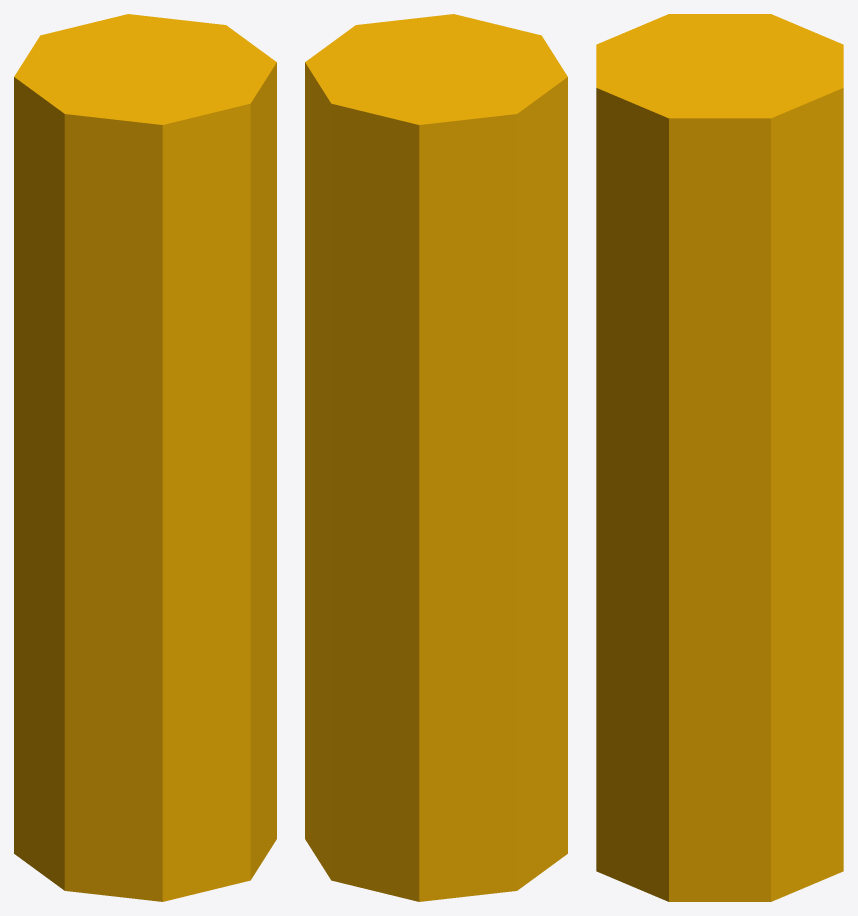
The model's file is mpe_hinge_b.dae.
The picture shows the model from 3 angles, left to right: view 1: azimuth 30°, elevation 25°; view 2: azimuth 150°, elevation 25°; view 3: azimuth 270°, elevation 25°; orthographic projection.
Visible parts, largest first — view 1: robotic_edge_pivot_b; view 2: robotic_edge_pivot_b; view 3: robotic_edge_pivot_b.
Part boxes in pixels (x1,y1,x2,y2): robotic_edge_pivot_b: [14, 14, 276, 901]; robotic_edge_pivot_b: [305, 14, 567, 901]; robotic_edge_pivot_b: [596, 14, 843, 901].
Bounding box in the file's own units: 0.04 × 0.04 × 0.14.
